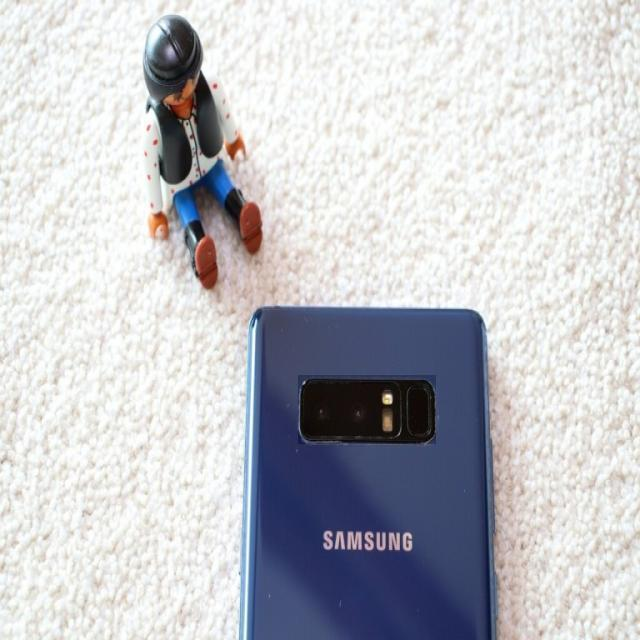phone: (236, 290, 498, 640)
